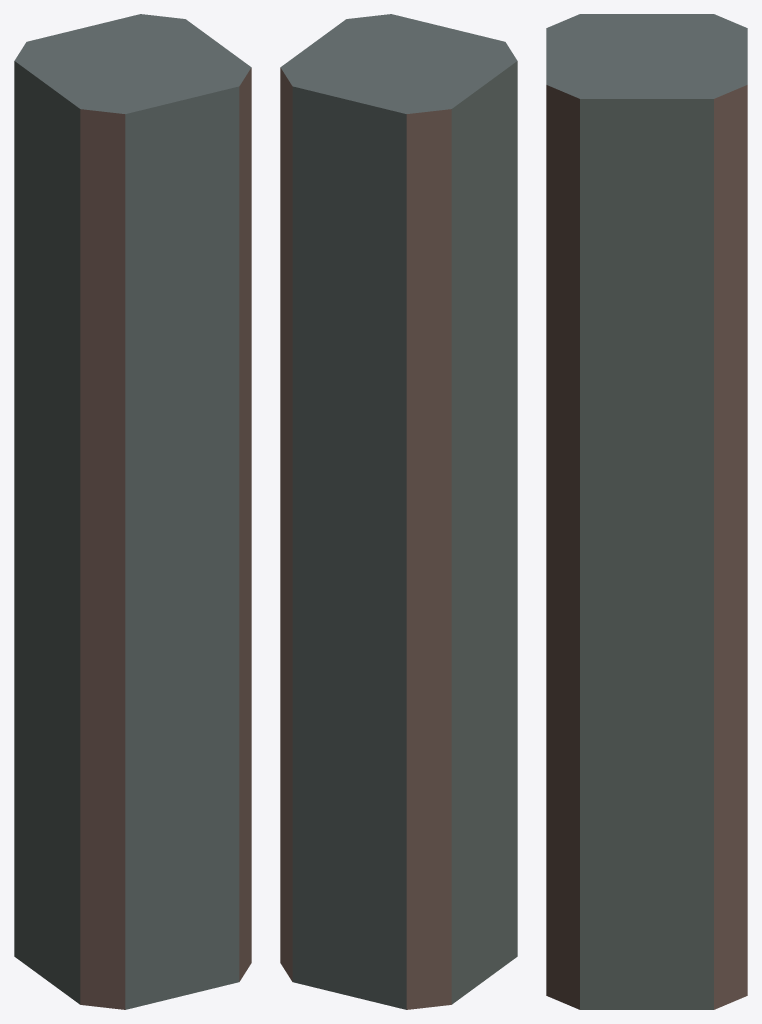
File: pillar_medium_3m.fbx
3 views of the same model, side by side, from view 1: azimuth 30°, elevation 25°; view 2: azimuth 150°, elevation 25°; view 3: azimuth 270°, elevation 25° (orthographic).
Visible parts, largest first — view 1: Cube; view 2: Cube; view 3: Cube.
Part boxes in pixels (x1,y1,x2,y2): Cube: (14, 14, 251, 1009); Cube: (280, 14, 517, 1009); Cube: (546, 14, 747, 1009).
Bounding box in the file's own units: 60 × 300 × 60.
